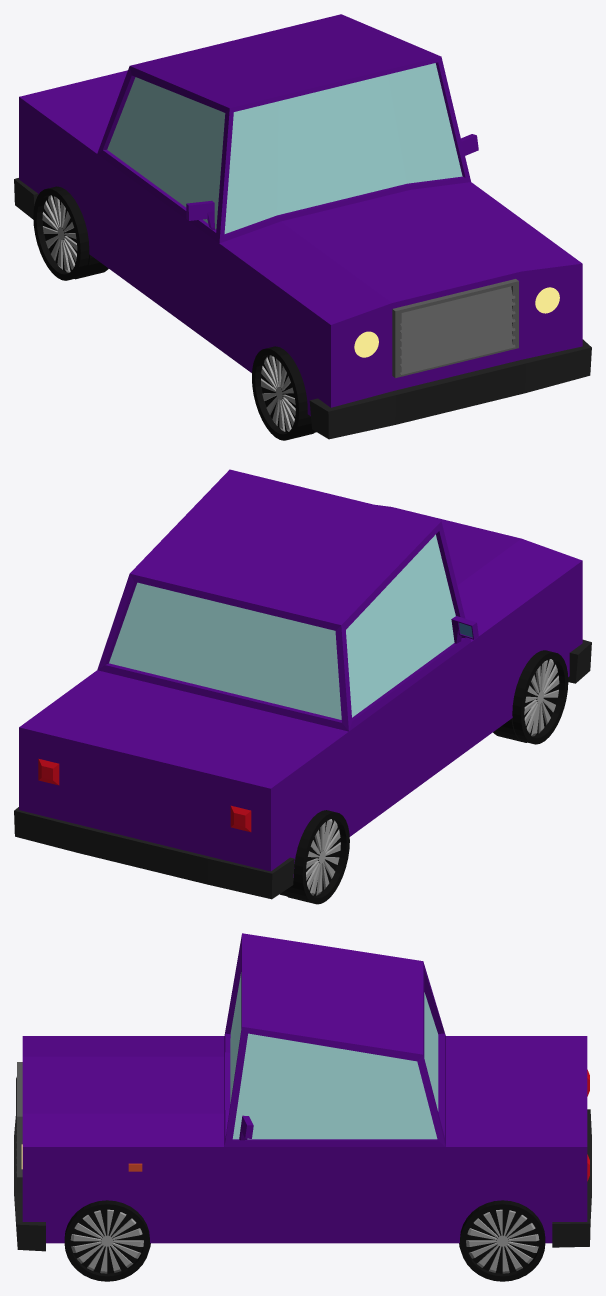
Rendered from Cartoon_Cars_Blend5.glb.
The picture shows the model from 3 angles, top to bottom: view 1: azimuth 30°, elevation 25°; view 2: azimuth 150°, elevation 25°; view 3: azimuth 270°, elevation 25°; orthographic projection. The views are drawn at different scales.
Parts seen in each view (by area): view 1: 1, Plane.002, Cylinder.021, Cylinder.019, Cube.025; view 2: 1, Cylinder.021, Cube.028; view 3: 1, Cylinder.021, Plane.002.
Boxes of the visible parts, x1=… form: 1: x1=14, y1=14, x2=591, y2=439; Plane.002: x1=392, y1=279, x2=518, y2=377; Cylinder.021: x1=33, y1=186, x2=315, y2=440; Cylinder.019: x1=354, y1=287, x2=559, y2=357; Cube.025: x1=186, y1=134, x2=478, y2=229; 1: x1=14, y1=469, x2=591, y2=899; Cylinder.021: x1=283, y1=650, x2=568, y2=904; Cube.028: x1=38, y1=758, x2=251, y2=832; 1: x1=14, y1=933, x2=591, y2=1251; Cylinder.021: x1=64, y1=1200, x2=545, y2=1281; Plane.002: x1=16, y1=1062, x2=22, y2=1177.
Size of the model in its own units: 2.89 by 2.55 by 5.52.
